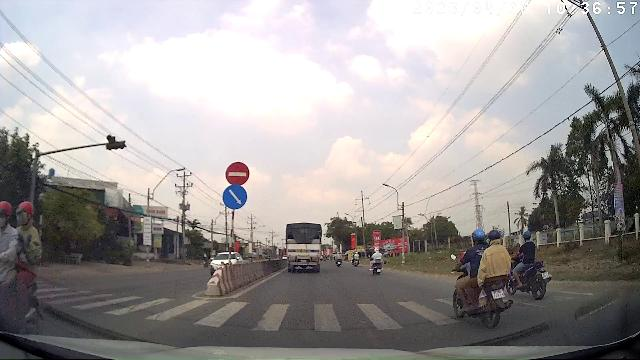102-cam-di-nguoc-chieu: (226, 161, 250, 185)
302a-huong-phai-di-vong-chuong-ngai-vat-1: (222, 185, 248, 209)
